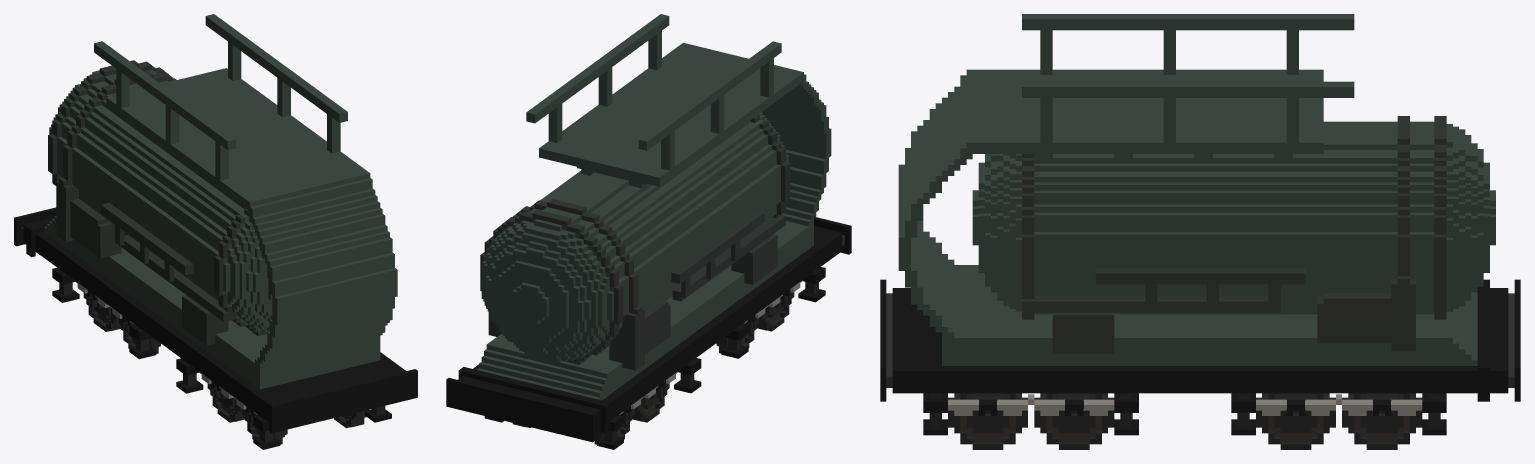
File: train_part_4.fbx
3 views of the same model, side by side, from view 1: azimuth 30°, elevation 25°; view 2: azimuth 150°, elevation 25°; view 3: azimuth 270°, elevation 25° (orthographic). The views are drawn at different scales.
Visible parts, largest first — view 1: train_part_02.train_part_02; view 2: train_part_02.train_part_02; view 3: train_part_02.train_part_02.
Part boxes in pixels (x1,y1,x2,y2): train_part_02.train_part_02: (14, 14, 417, 449); train_part_02.train_part_02: (446, 14, 851, 449); train_part_02.train_part_02: (880, 14, 1520, 449).
Size of the model in its own units: 3.4 by 6.6 by 10.4.
1 material, 1 textured.
